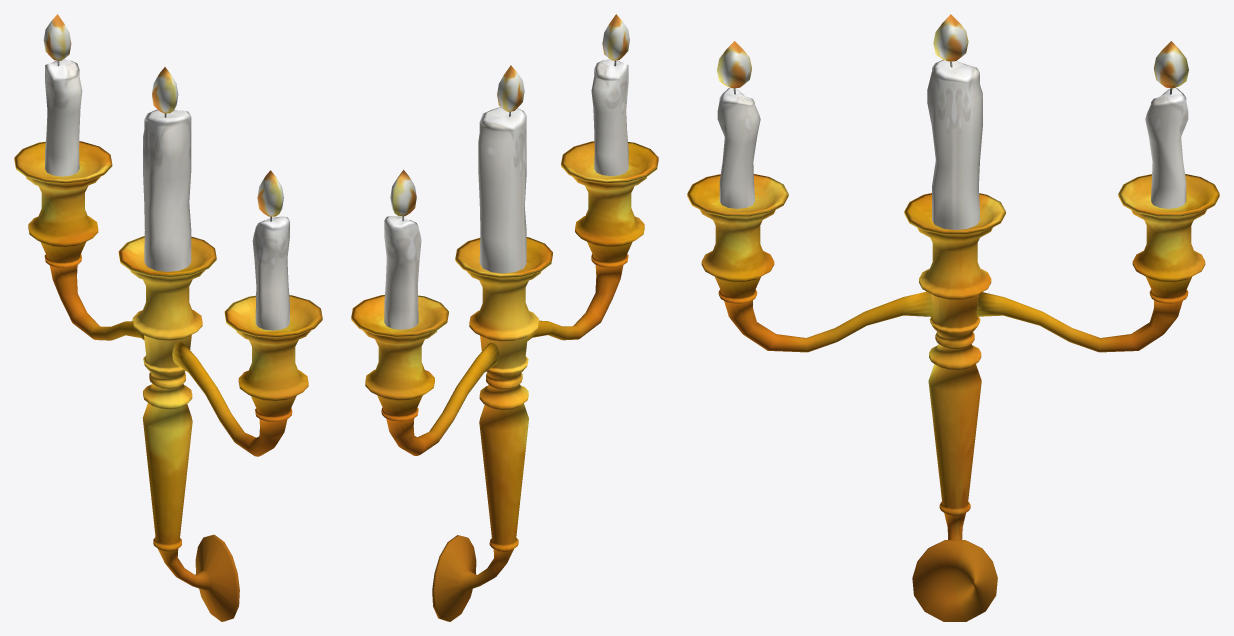
Rendered from candle.fbx.
The picture shows the model from 3 angles, left to right: view 1: azimuth 30°, elevation 25°; view 2: azimuth 150°, elevation 25°; view 3: azimuth 270°, elevation 25°; orthographic projection. The views are drawn at different scales.
Parts seen in each view (by area): view 1: polySurface721; view 2: polySurface721; view 3: polySurface721.
Boxes of the visible parts, <box> form: polySurface721: <box>14,14,322,621</box>; polySurface721: <box>351,14,658,621</box>; polySurface721: <box>687,14,1219,621</box>.
Size of the model in its own units: 17.49 by 101 by 84.15.
1 material, 1 textured.
